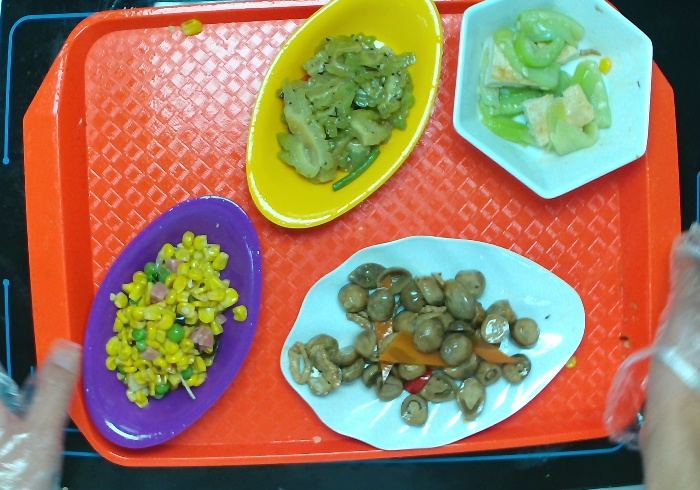RJxy-Bai_Ye_Pan: (276, 234, 587, 452)
RJxy-Fen_Hong_Tuo_Yuan: (79, 189, 267, 451)
RJxy-Huang_Se_Tuo_Yuan: (240, 7, 442, 236)
RJxy-Liu_Jiao_Wan: (447, 1, 658, 197)
